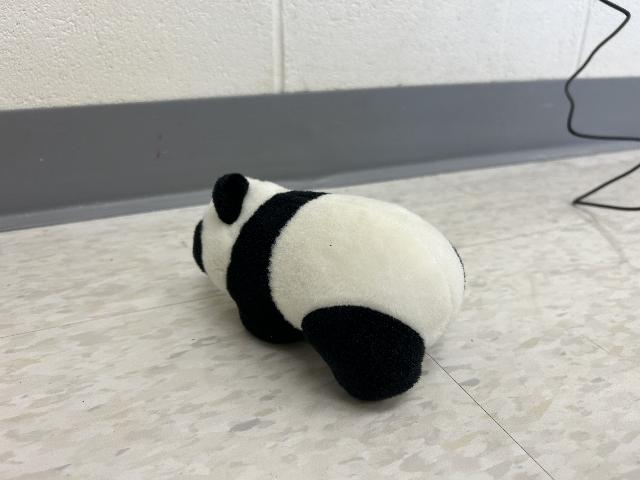panda_plushie: (192, 170, 466, 404)
